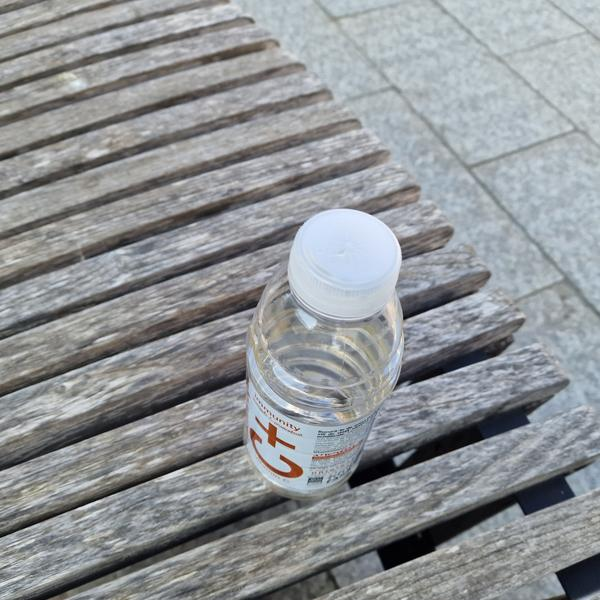plastic_bottle: (205, 188, 442, 517)
